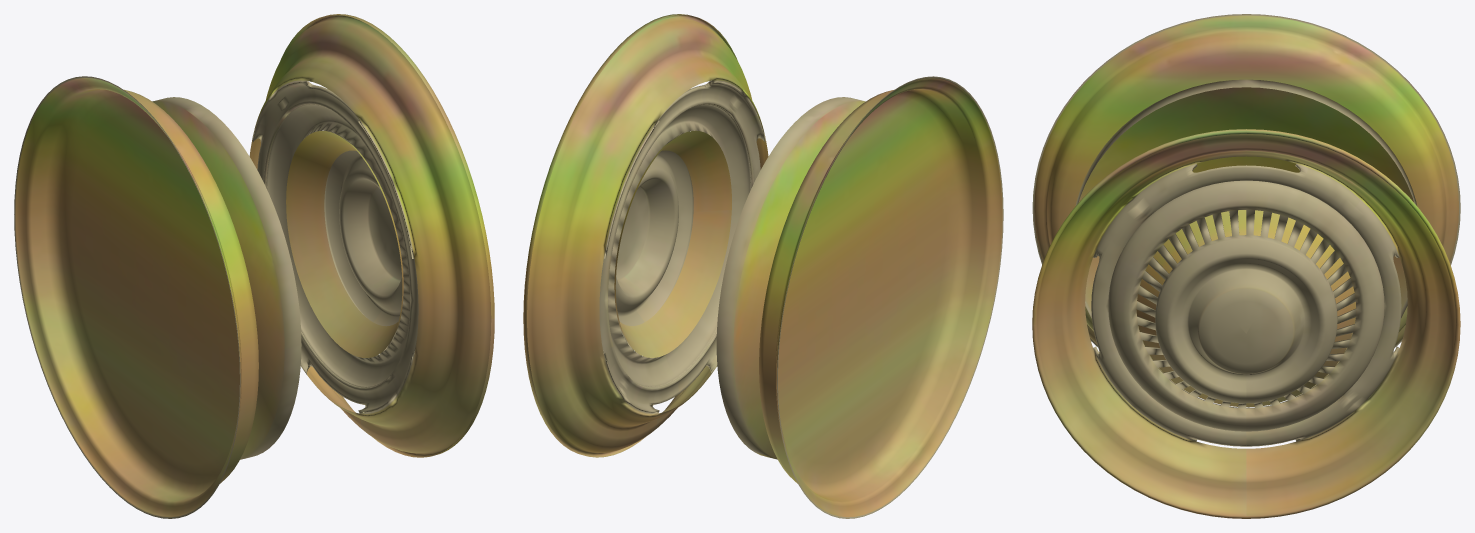
The picture shows the model from 3 angles, left to right: view 1: azimuth 30°, elevation 25°; view 2: azimuth 150°, elevation 25°; view 3: azimuth 270°, elevation 25°; orthographic projection. The views are drawn at different scales.
Parts seen in each view (by area): view 1: Glint; view 2: Glint; view 3: Glint.
Boxes of the visible parts, x1=… form: Glint: x1=14, y1=14, x2=494, y2=518; Glint: x1=523, y1=14, x2=1003, y2=518; Glint: x1=1032, y1=14, x2=1460, y2=518.
Bounding box in the file's own units: 0.8306 × 1.19 × 1.19.
Materials: 1 (1 with a texture image).
